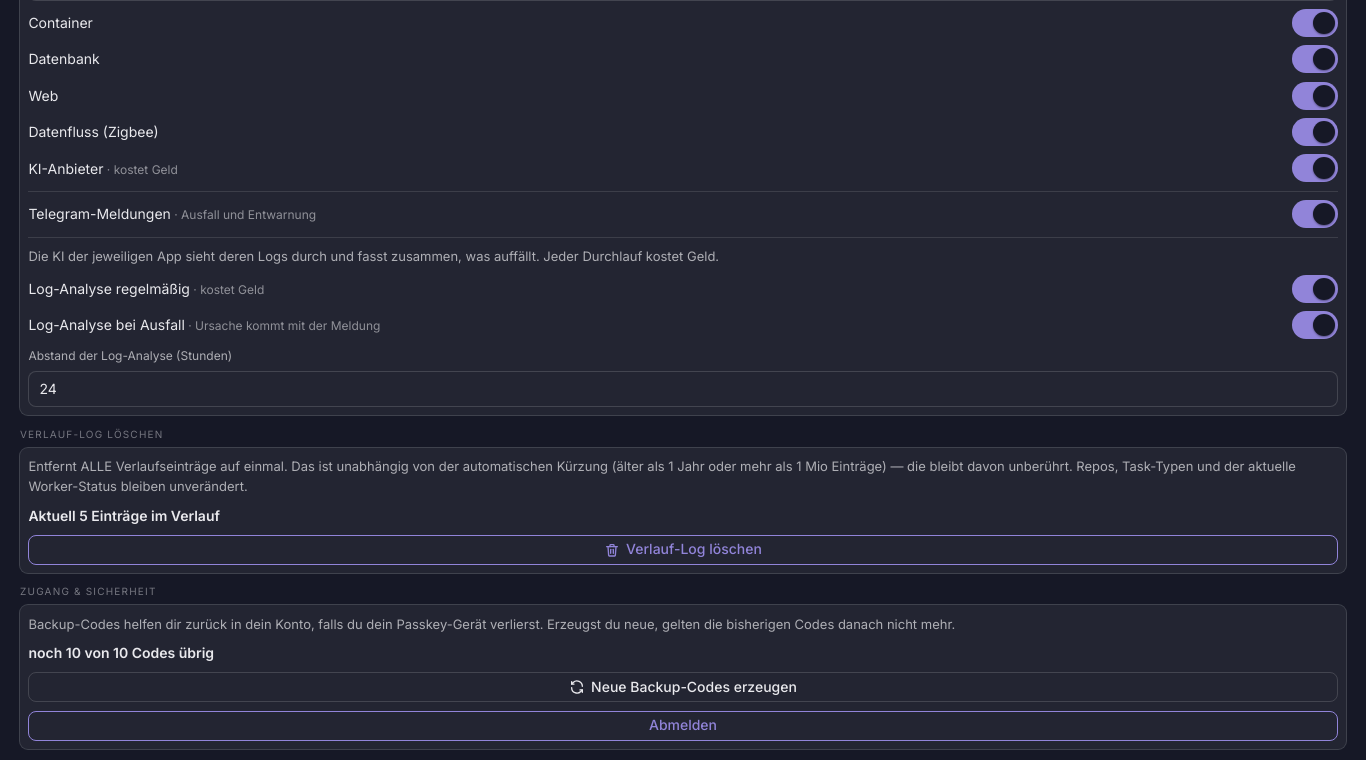
Test case: Einstellungen — Verlauf-Log löschen › AC: confirming clears the log and shows 'Verlauf gelöscht'
(page scrolled)
Check: the text "Aktuell 5 Einträge im Verlauf" is shown, box [28, 507, 220, 524]
Click the button "Verlauf-Log löschen" at (683, 550), box [28, 535, 1338, 565]
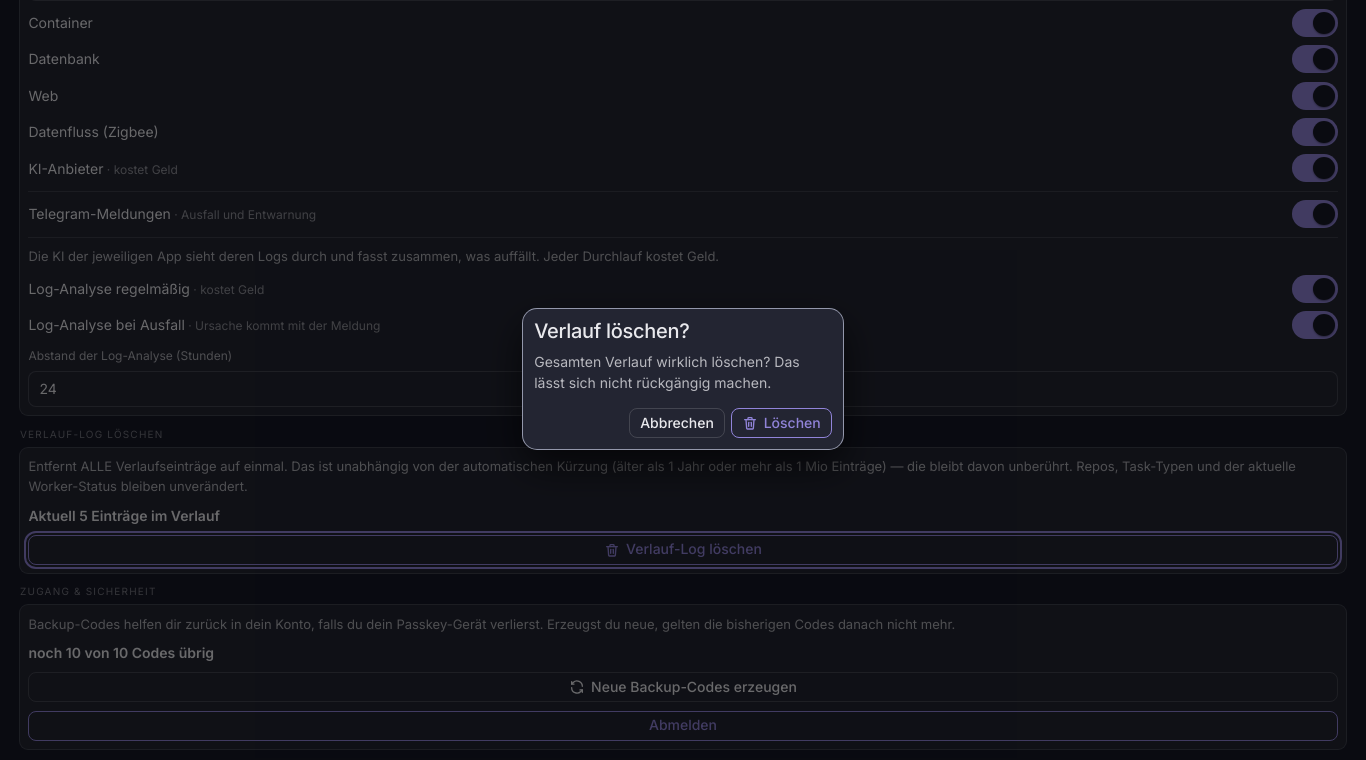
Click the button "Löschen" at (781, 423), box [731, 408, 832, 438]
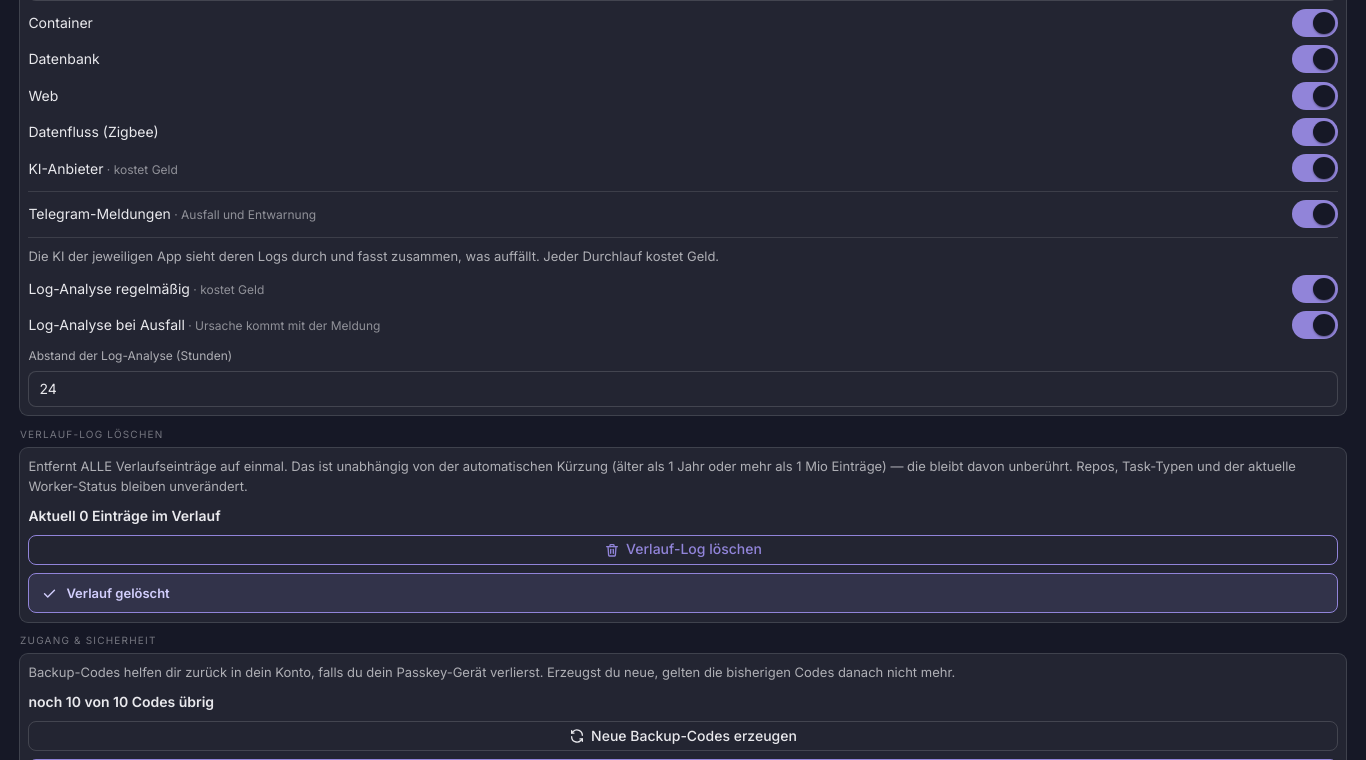
Check: the text "Verlauf gelöscht" is shown, box [66, 583, 170, 603]
Check: the text "Aktuell 0 Einträge im Verlauf" is shown, box [28, 507, 221, 524]
Check: the dialog is gone
